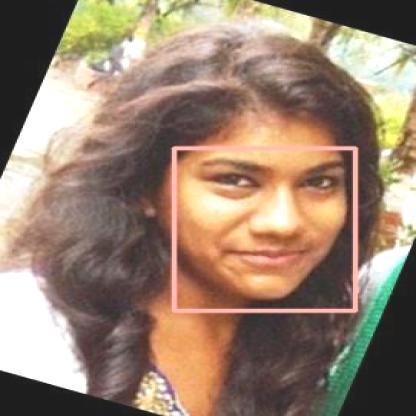without_mask: (174, 148, 355, 310)
